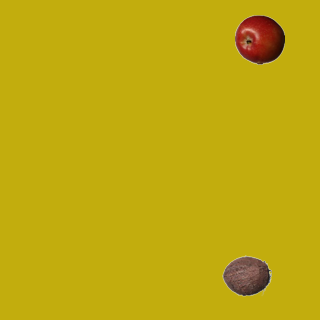Apple Braeburn: (234, 14, 284, 64)
Cocos: (221, 250, 271, 300)
